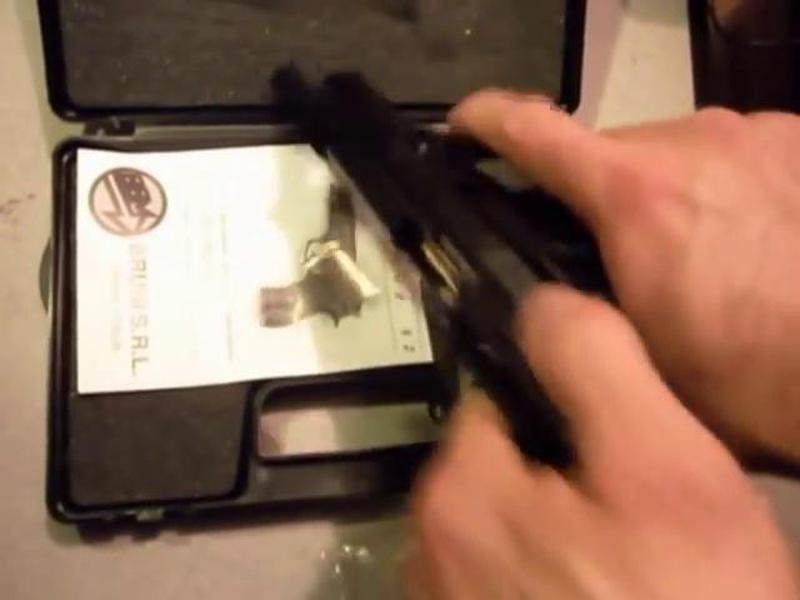Pistola: (245, 31, 711, 475)
